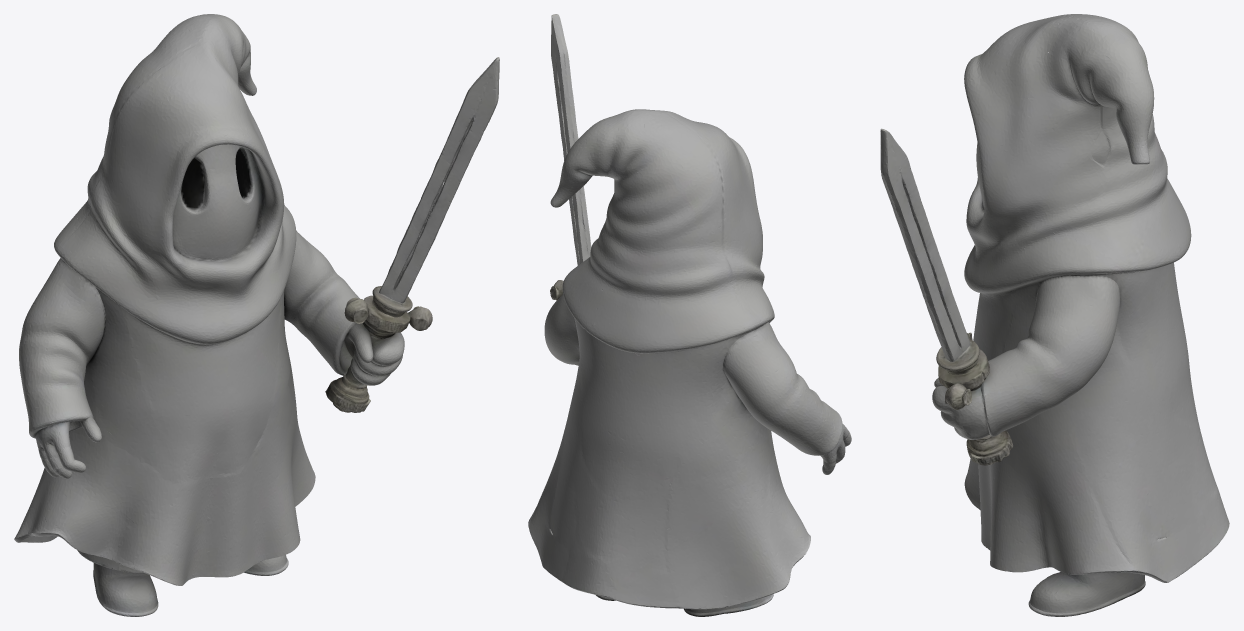
The model's file is ghost.glb.
3 views of the same model, side by side, from view 1: azimuth 30°, elevation 25°; view 2: azimuth 150°, elevation 25°; view 3: azimuth 270°, elevation 25° (orthographic). The views are drawn at different scales.
Parts seen in each view (by area): view 1: Ghost; view 2: Ghost; view 3: Ghost.
Part boxes in pixels (x1,y1,x2,y2): Ghost: (14, 14, 499, 616); Ghost: (528, 14, 851, 616); Ghost: (880, 14, 1229, 616).
Size of the model in its own units: 10.38 by 13.56 by 7.58.
1 material, 1 textured.
